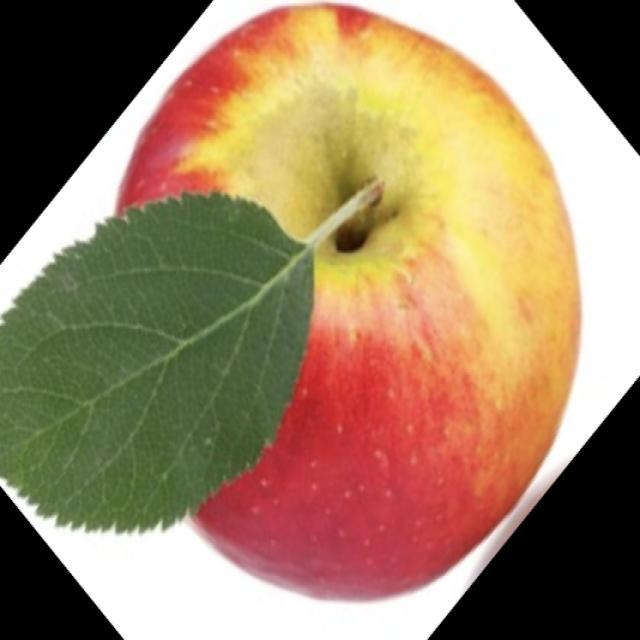Apple: (113, 0, 582, 602)
